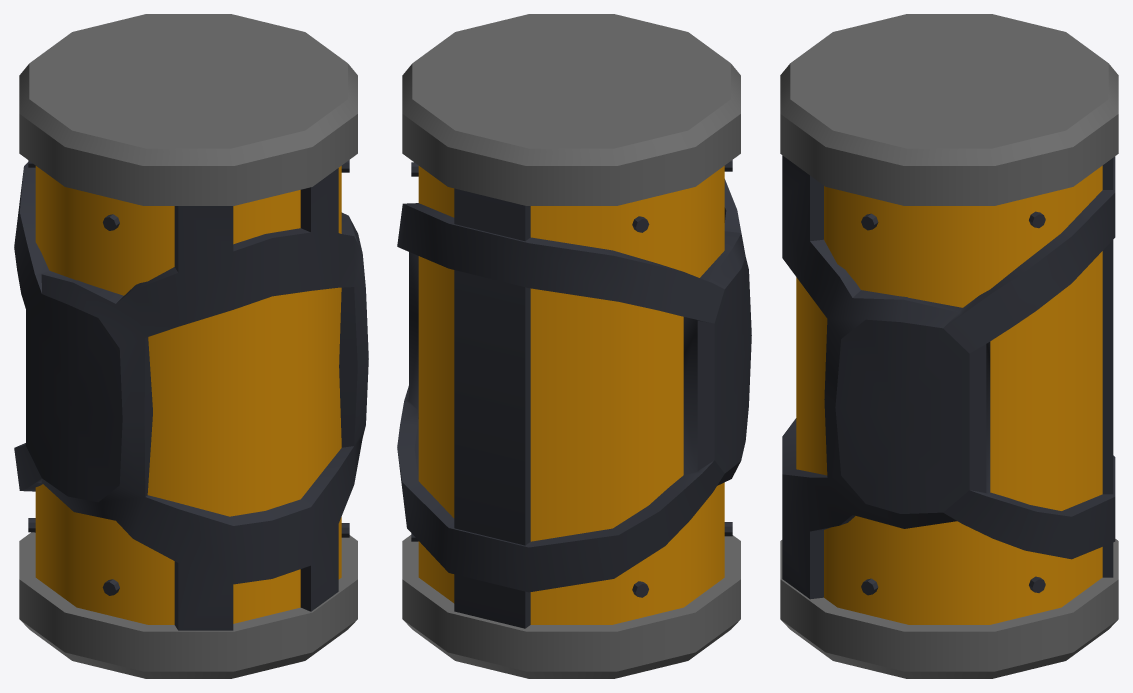
Rendered from Fuel_Tank_2.fbx.
3 views of the same model, side by side, from view 1: azimuth 30°, elevation 25°; view 2: azimuth 150°, elevation 25°; view 3: azimuth 270°, elevation 25° (orthographic).
Parts seen in each view (by area): view 1: mergedBlocks; view 2: mergedBlocks; view 3: mergedBlocks.
Part boxes in pixels (x1,y1,x2,y2): mergedBlocks: (14, 14, 368, 678); mergedBlocks: (397, 14, 751, 678); mergedBlocks: (780, 14, 1118, 678).
Bounding box in the file's own units: 6.01 × 10 × 5.77.
